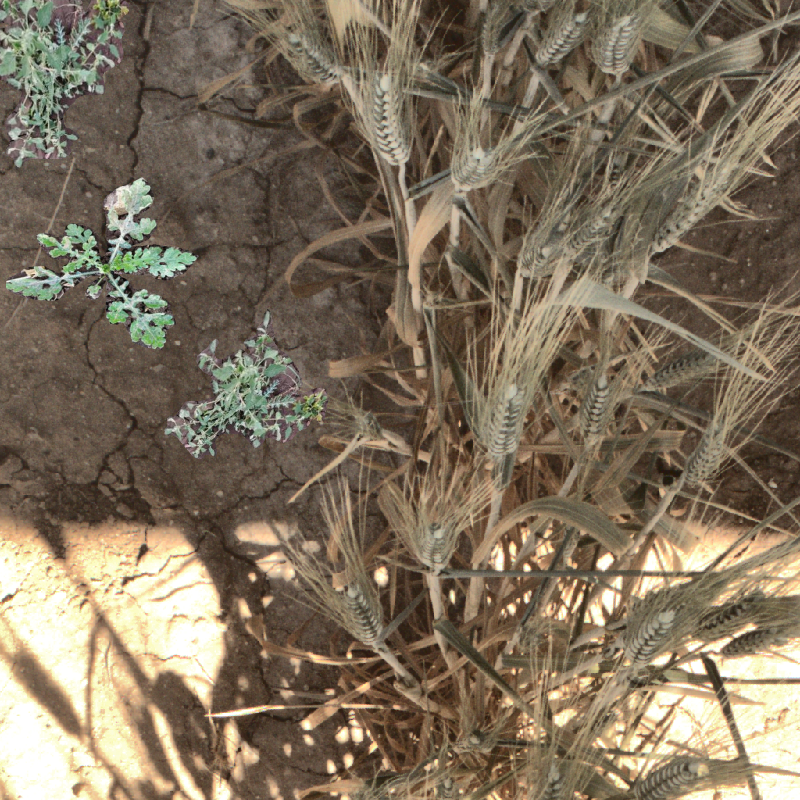spikelet: (644, 182, 722, 254), (366, 68, 412, 167), (481, 378, 526, 466), (617, 602, 679, 661), (285, 26, 344, 85), (340, 579, 388, 649), (533, 8, 587, 68), (720, 622, 800, 662), (624, 758, 702, 799), (699, 591, 769, 636), (591, 11, 639, 74), (683, 422, 729, 487), (646, 353, 717, 395), (577, 372, 614, 451), (568, 205, 616, 264), (448, 144, 495, 194), (414, 521, 453, 573), (476, 1, 510, 57), (539, 761, 570, 800)
weed: (6, 177, 199, 350), (162, 316, 329, 460), (1, 1, 129, 168)
